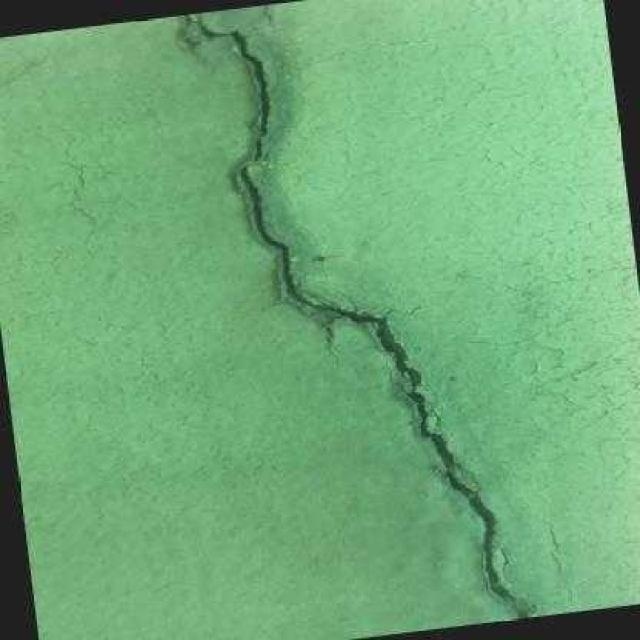D00: (189, 20, 531, 618)
